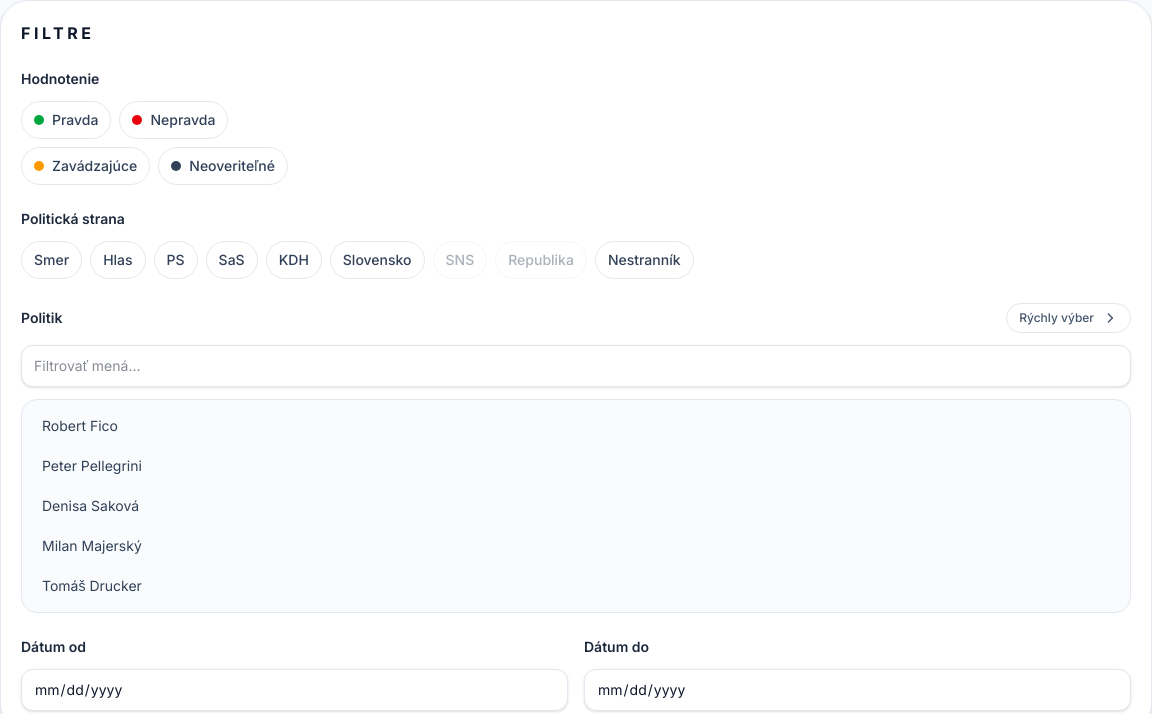
Scenario: FilterSidebar › supports multi-select politician toggles
What coordinates should you click on to do the following:
click the button "Milan Majerský"
I would click on:
 (92, 546)
Its box is [30,528,1122,564].
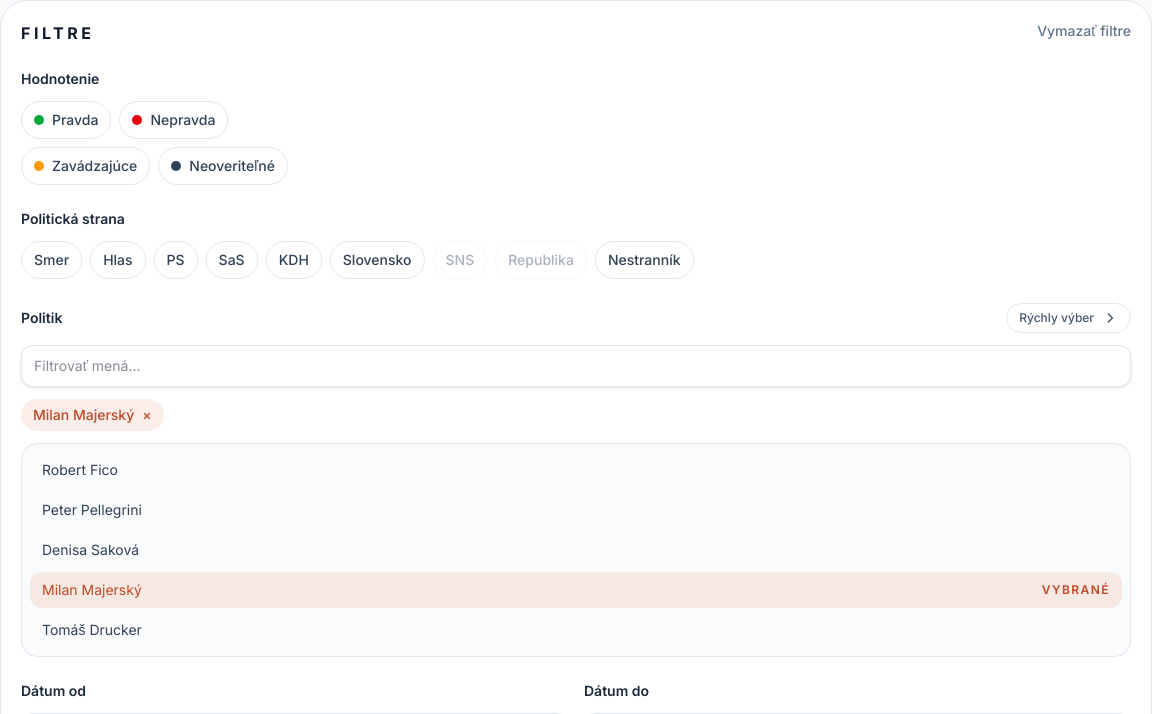
What coordinates should you click on to do the following:
click the button "Tomáš Drucker"
I would click on:
 (92, 630)
Its box is [30,612,1122,648].
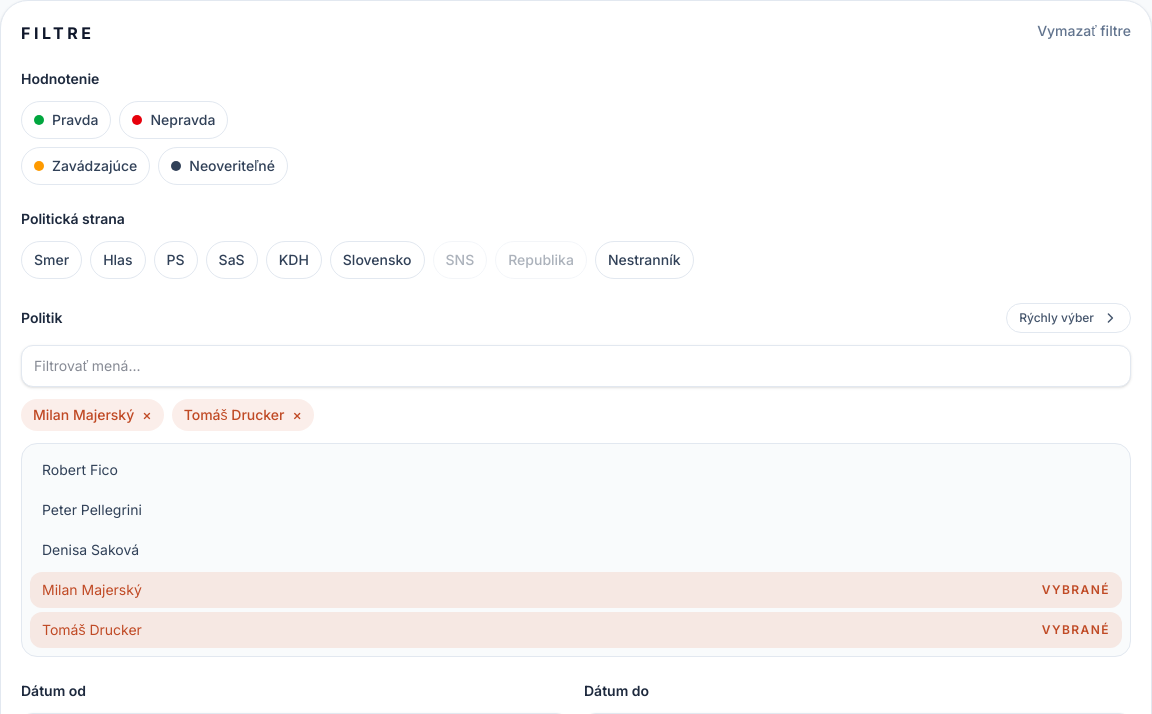
Result: the button with aria-label "Odstrániť Milan Majerský" is shown at [21,399,164,431]
Result: the button "Vymazať filtre" is shown at [1037,21,1131,41]
Result: the button with aria-label "Odstrániť Tomáš Drucker" is shown at [172,399,314,431]
